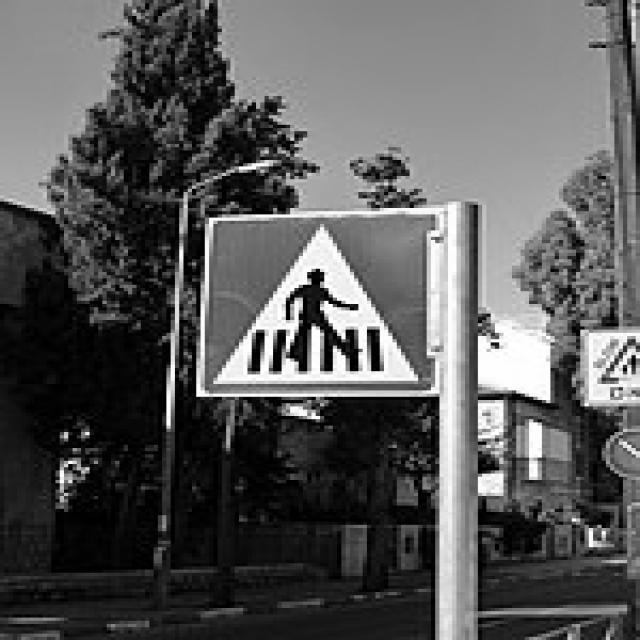pedestrian crossing: (214, 224, 424, 383)
